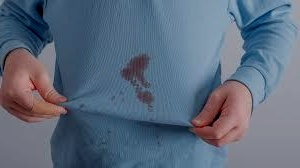blood: (122, 54, 154, 109)
